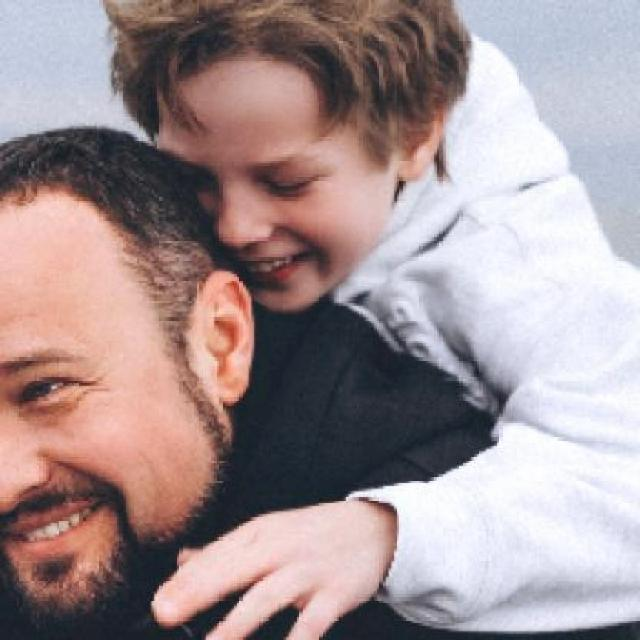child: (100, 0, 640, 637)
